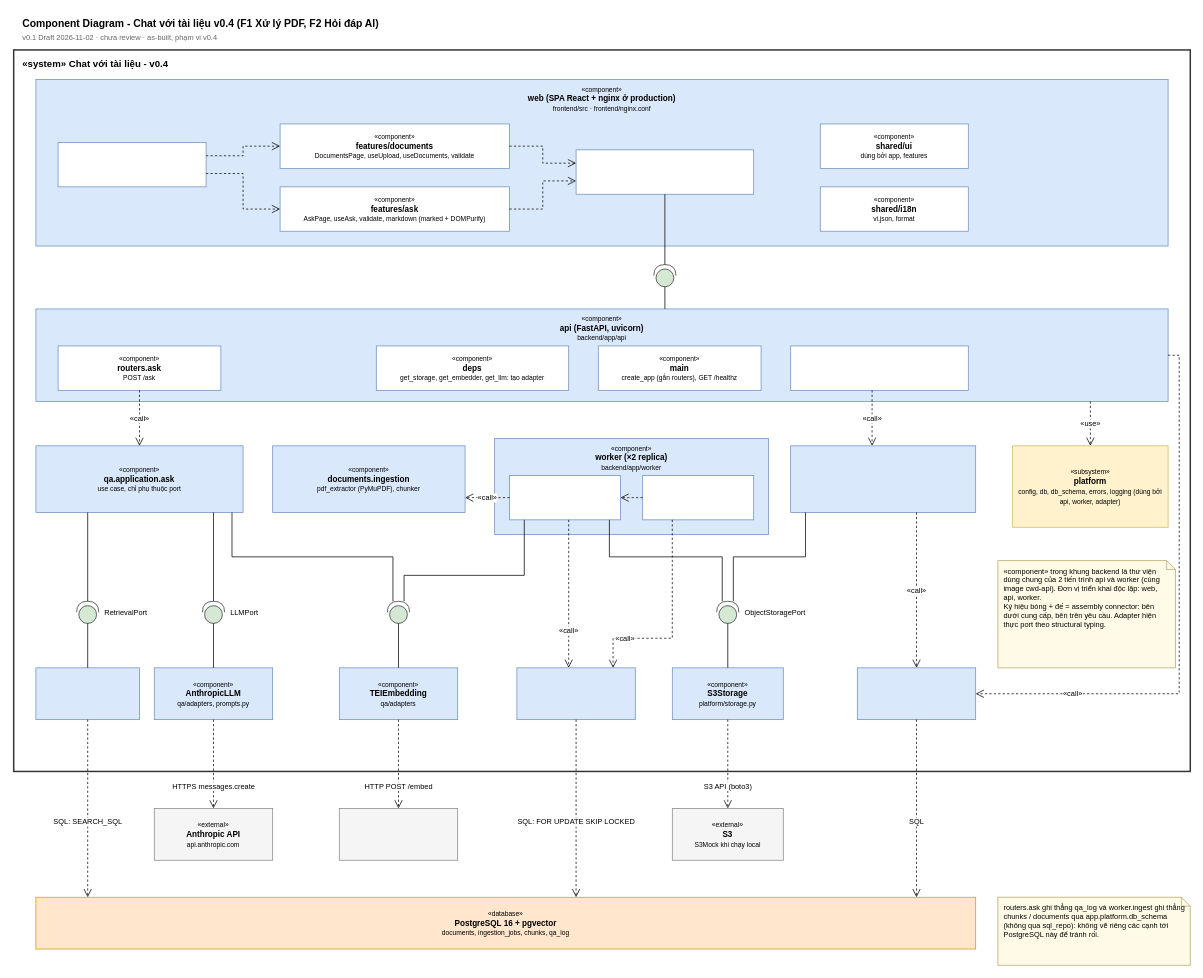
Some shapes in this 1203 by 978 pixel diagram are drawn without their labels. Here are the shapes that lost their labels. From the top down, the box of each, then its label:
(57, 142, 206, 187): «component» app AppShell, router, providers
(575, 149, 754, 194): «component» shared/api client, documents, ask, errors
(653, 264, 676, 287): HTTP /api/v1 (JSON, multipart, problem+json)
(790, 345, 968, 390): «component» routers.documents POST, GET /documents
(509, 475, 620, 520): «component» worker.ingest run_ingest
(642, 475, 754, 520): «component» worker.main run_forever
(790, 445, 976, 512): «component» documents.application.upload use case upload_documents
(387, 601, 410, 623): EmbeddingPort
(35, 667, 139, 720): «component» PgRetrieval qa/adapters
(516, 667, 635, 720): «component» job_queue documents/adapters
(857, 667, 976, 720): «component» sql_repo documents/adapters
(339, 808, 458, 860): «external» TEI BAAI/bge-m3, 1024 chiều
